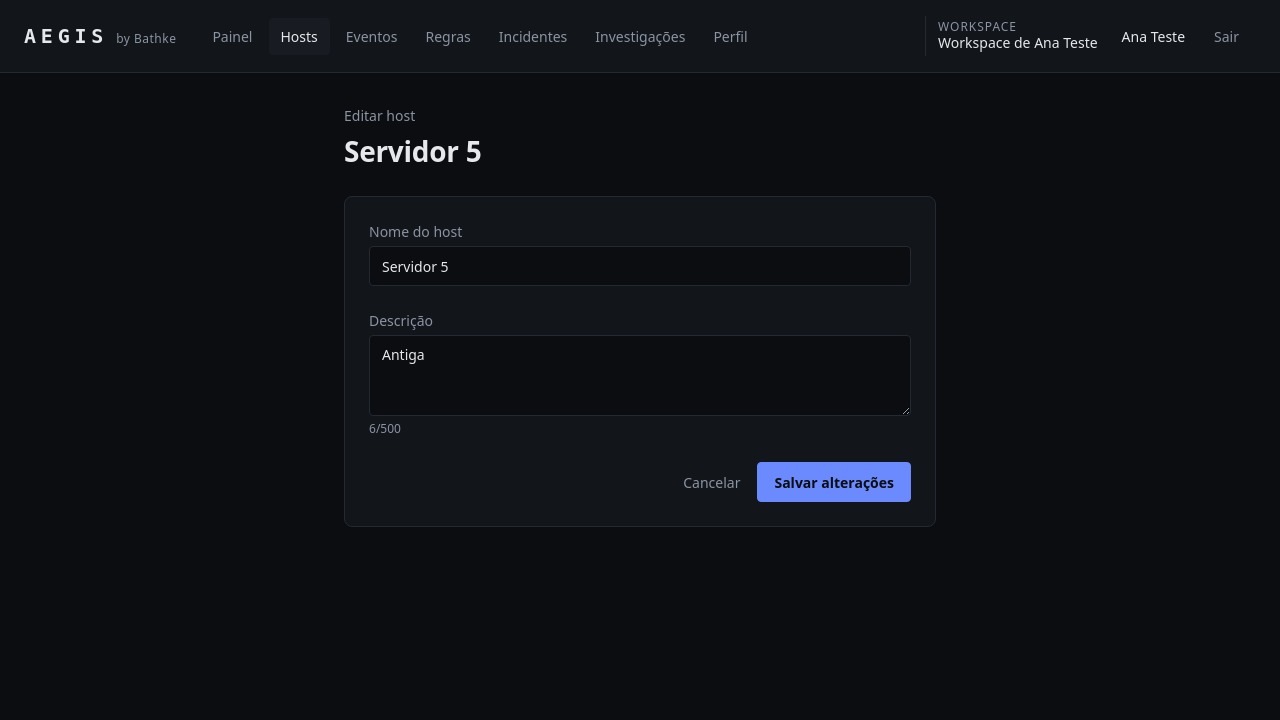
Scenario: edit host (separate screen) › pre-fills the administrative fields and never sends technical ones
The width and height of the screenshot is (1280, 720).
Expected: the text box labelled "Descrição" holds "Antiga", top-left (369, 335), bottom-right (911, 416)
Replace the text in the field with "Servidor de banco" at (640, 266), box top-left (369, 246), bottom-right (911, 286)
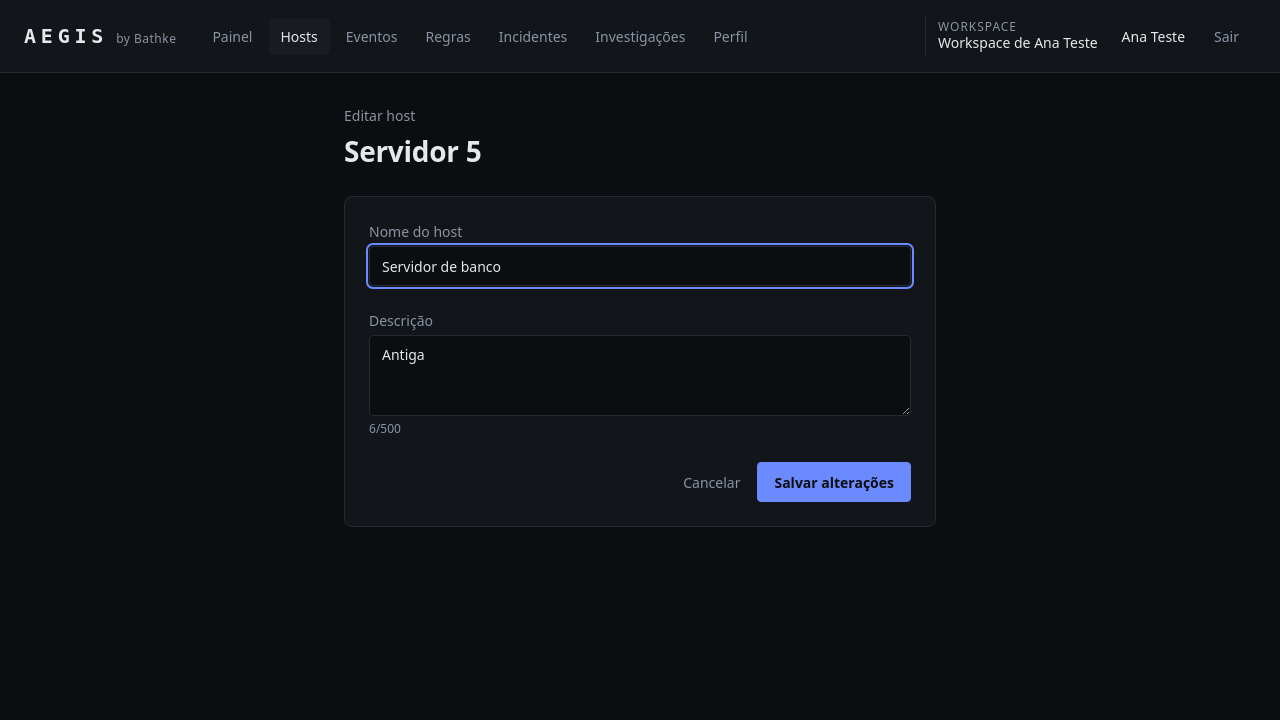
Click the button "Salvar alterações" at (834, 482), box top-left (757, 462), bottom-right (911, 502)
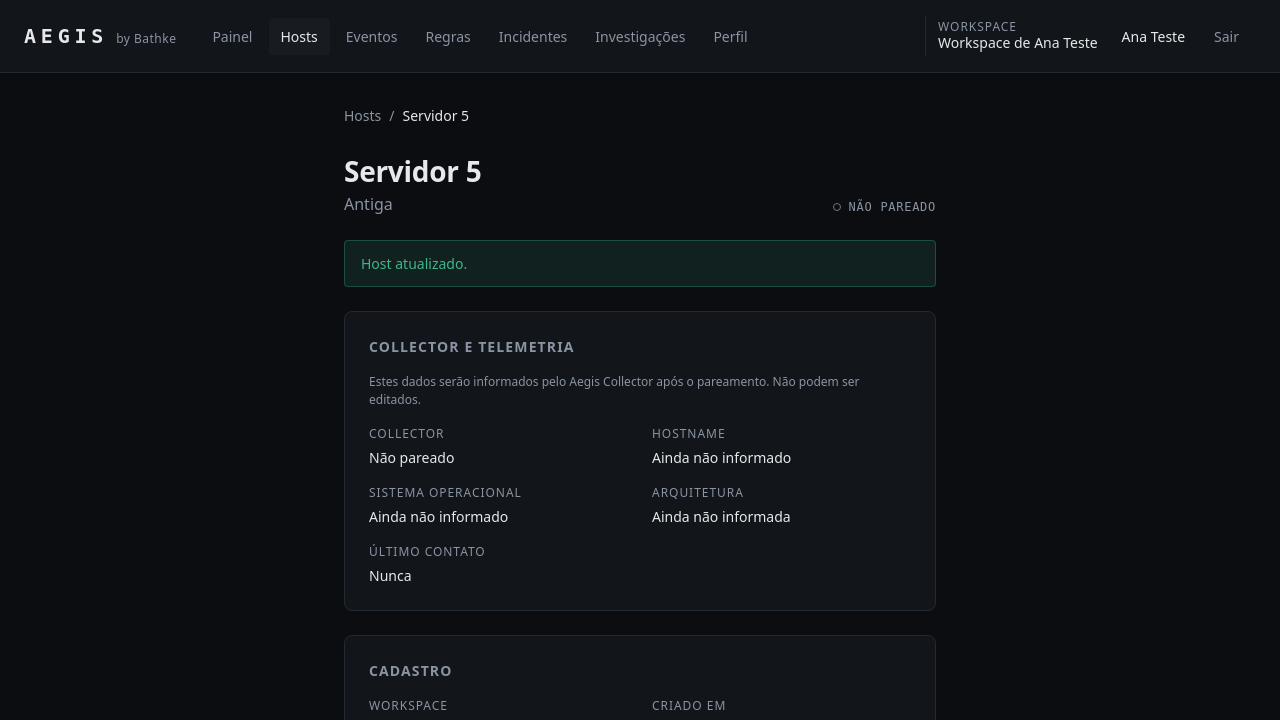
Expected: the text "Host atualizado." is shown, top-left (344, 240), bottom-right (936, 287)
